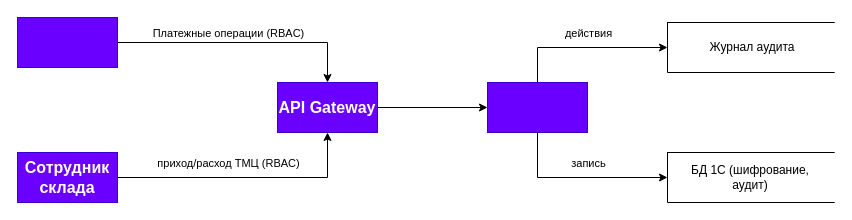
This 852x220 diagram has some shape labels left out. Each missing label, with the centre of its shape:
"1С: ERP (сервер)" goes at (537,107).
"Бухгалтер" goes at (67,42).
